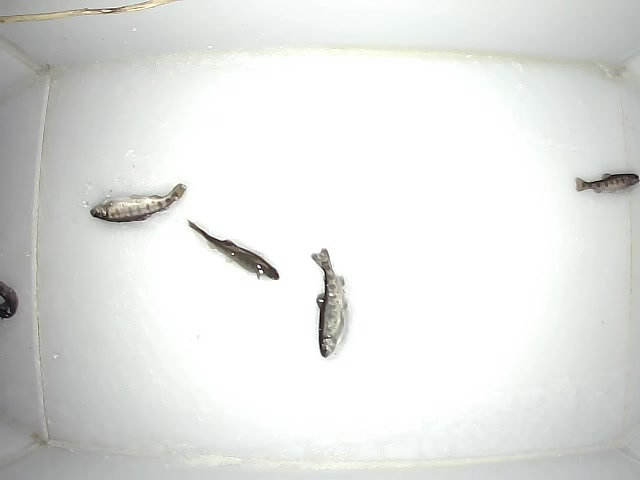fish: (184, 218, 279, 281), (309, 245, 348, 358), (87, 179, 187, 223), (572, 172, 640, 197)
